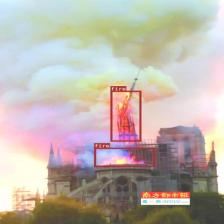fire: (110, 91, 141, 142), (94, 147, 154, 167)
